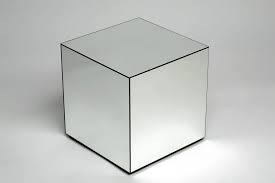cubos: (55, 14, 217, 175)
